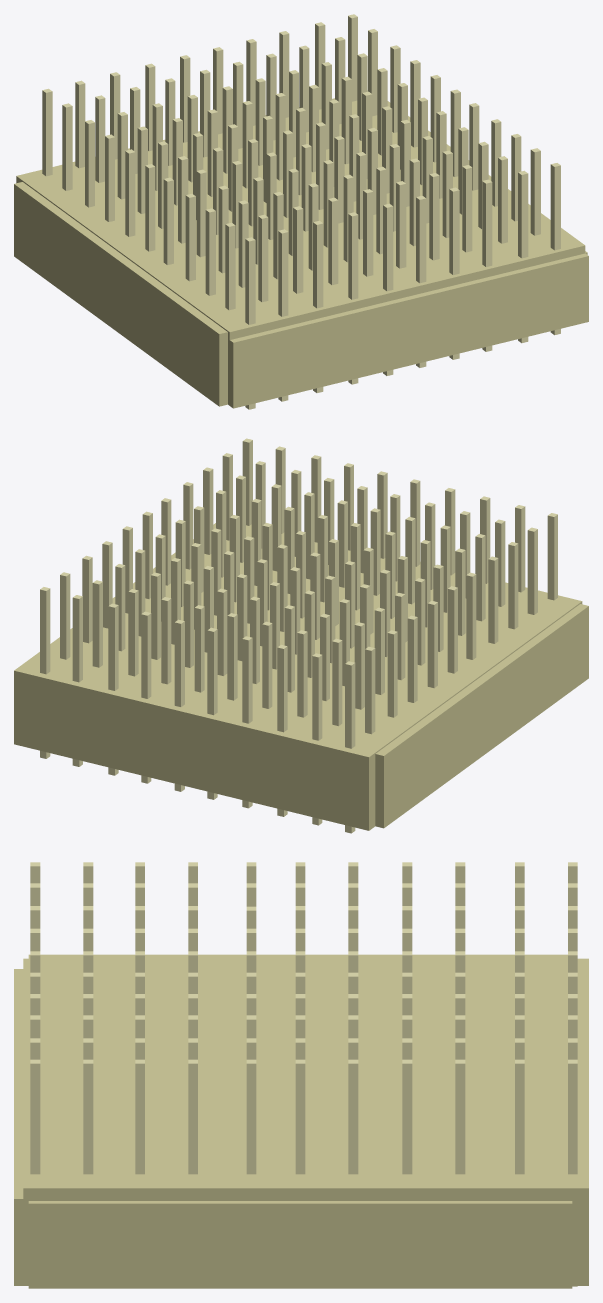
The model's file is BackRooms.fbx.
3 views of the same model, one above another, from view 1: azimuth 30°, elevation 25°; view 2: azimuth 150°, elevation 25°; view 3: azimuth 270°, elevation 25° (orthographic). The views are drawn at different scales.
Parts seen in each view (by area): view 1: group7_pasted__pCube2; view 2: group7_pasted__pCube2; view 3: group7_pasted__pCube2.
Boxes of the visible parts, x1,y1,x2,y2 form: group7_pasted__pCube2: (14,14,588,409); group7_pasted__pCube2: (14,438,588,833); group7_pasted__pCube2: (14,862,588,1288).
Size of the model in its own units: 56.97 by 24.87 by 58.17.
